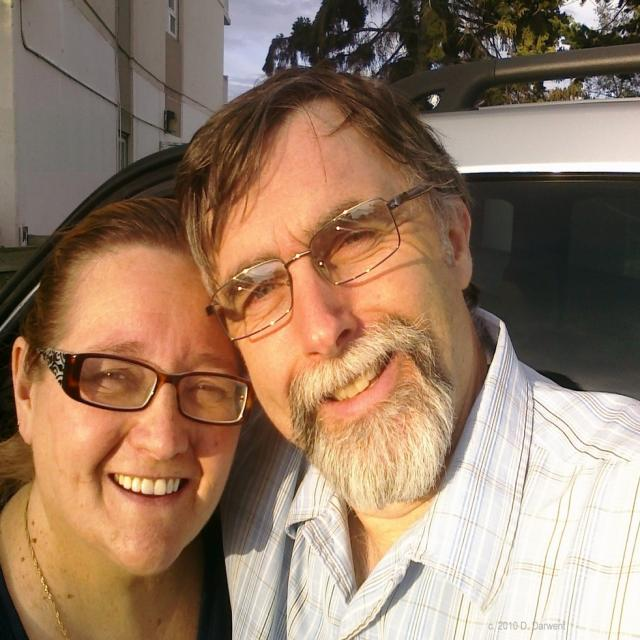Glasses: (202, 185, 440, 342), (31, 357, 243, 433)
